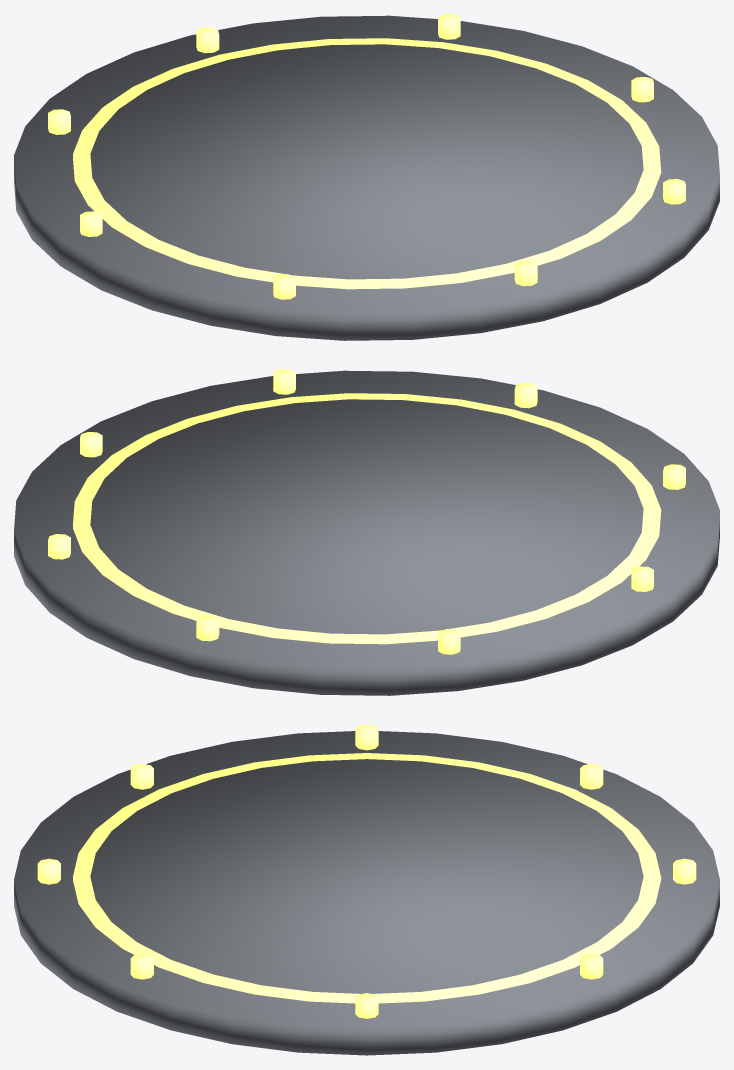
Rendered from landing_pad.glb.
3 views of the same model, one above another, from view 1: azimuth 30°, elevation 25°; view 2: azimuth 150°, elevation 25°; view 3: azimuth 270°, elevation 25° (orthographic).
Parts seen in each view (by area): view 1: LandingPad; view 2: LandingPad; view 3: LandingPad.
Part boxes in pixels (x1,y1,x2,y2): LandingPad: (14,14,719,340); LandingPad: (14,369,719,695); LandingPad: (14,724,719,1055).
Size of the model in its own units: 12 by 0.83 by 12.
